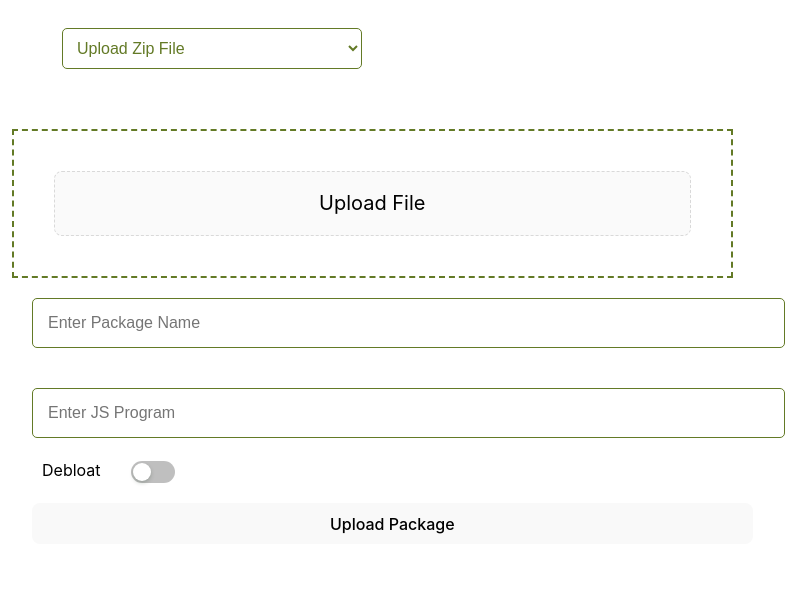
Test case: shows error if zip upload chosen but no file selected
Expected: the dropdown titled "select-upload-method" is shown, [62,28,362,69]
In the field with placeholder "Enter Package Name": (408, 323) [32,298,784,348], type "testPackage"
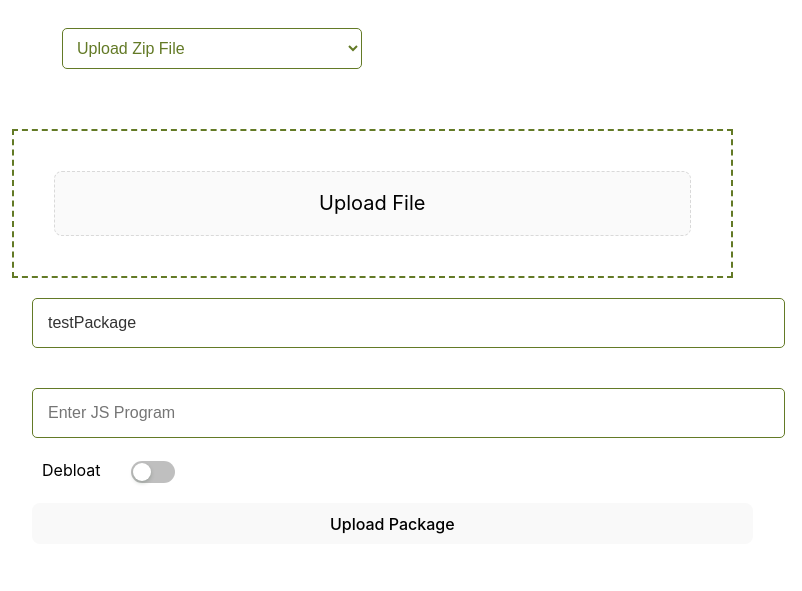
In the field with placeholder "Enter JS Program": (408, 413) [32,388,784,438], type "console.log(\"test\")"
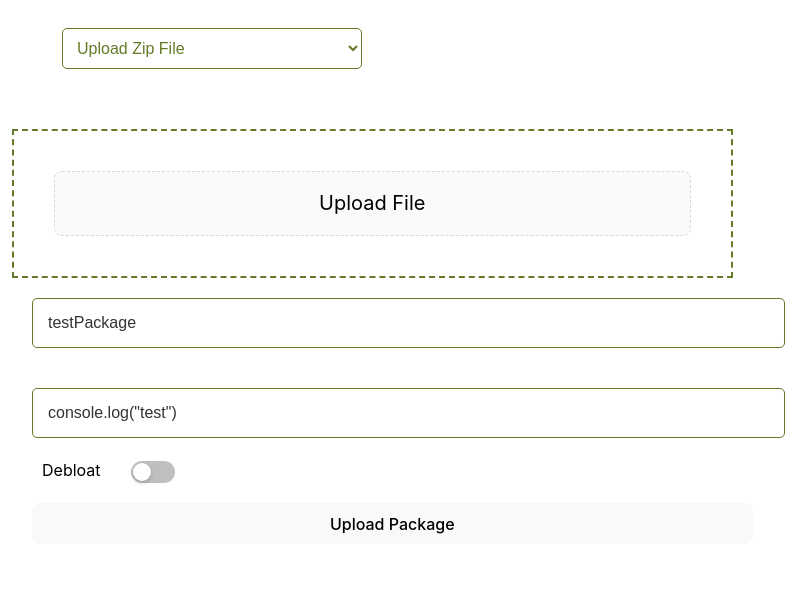
Click the button "Upload Package": (392, 524) [32,503,752,544]
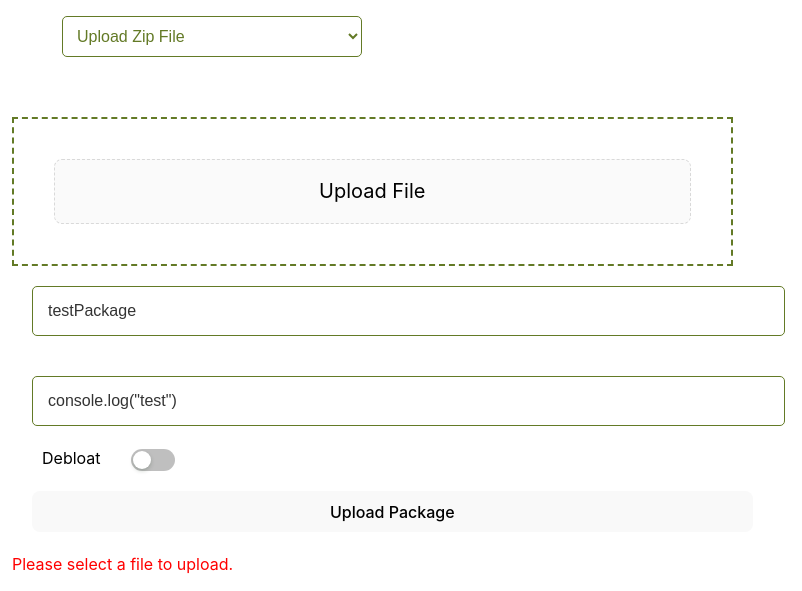
Result: the text "Please select a file to upload." is shown at [12,554,233,574]
